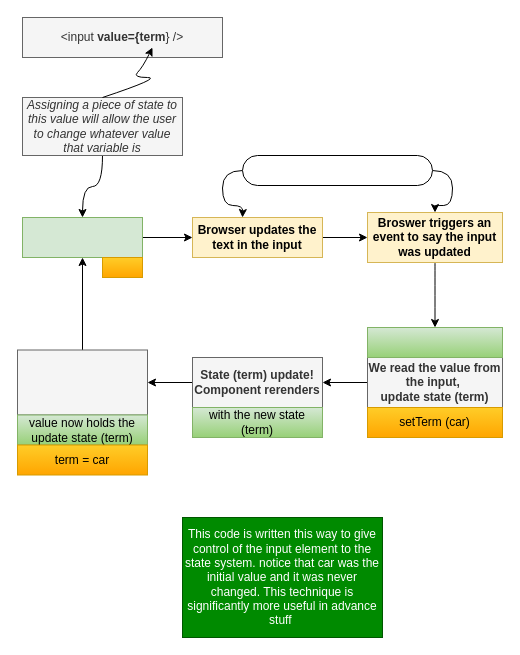
Some shapes in this 520 by 655 pixel diagram are drawn without their labels. Each missing label, with the centre of its shape:
car: (x=122, y=267)
Normal browser behavior: (x=337, y=170)
React tells us the this by calling handleChange: (x=434, y=342)
User types in input (term =car): (x=82, y=237)
We provide "value" prop to input - React changes the input's value: (x=82, y=382)
